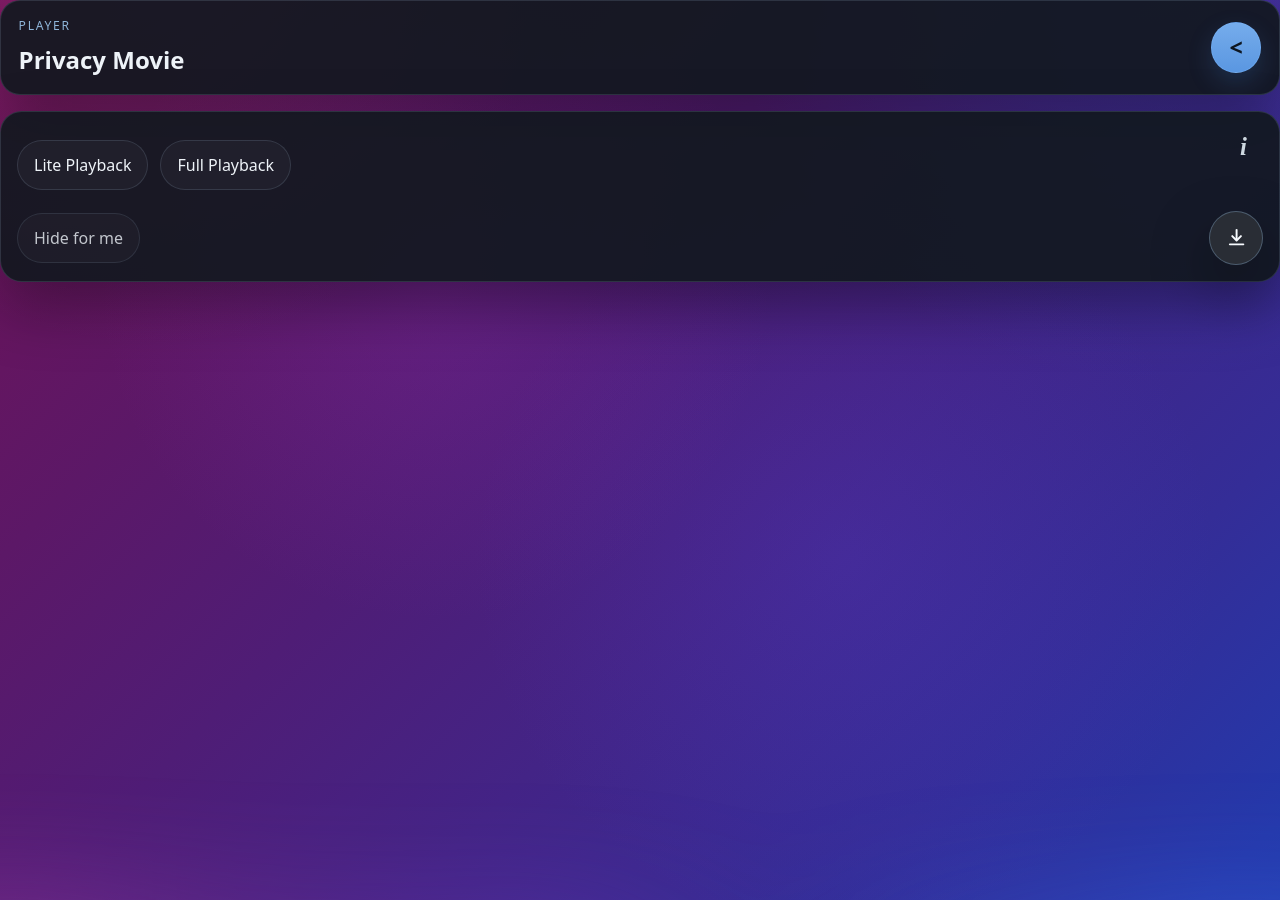
Test case: DetailPage source metadata privacy › standard users do not see source file metadata even if the fixture includes it
Click the button named "Movie info" at (1243,147), box top-left (1221, 125), bottom-right (1265, 169)
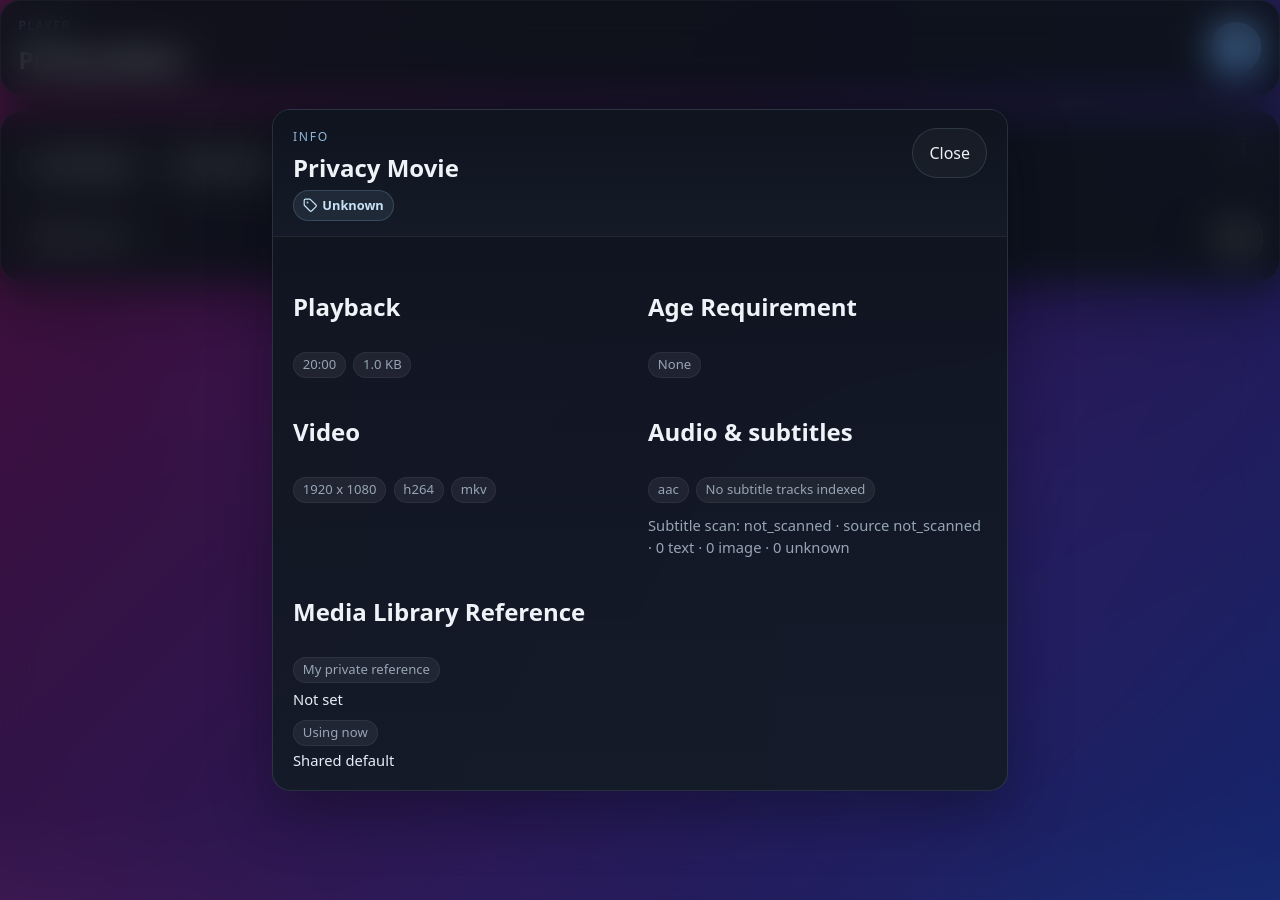
Expected: the button "Full Playback" is shown, top-left (160, 140), bottom-right (291, 190)
Now the dialog "Privacy Movie" is shown
